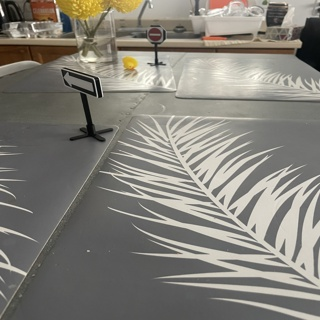sign_oneway_left: (61, 78, 99, 96)
